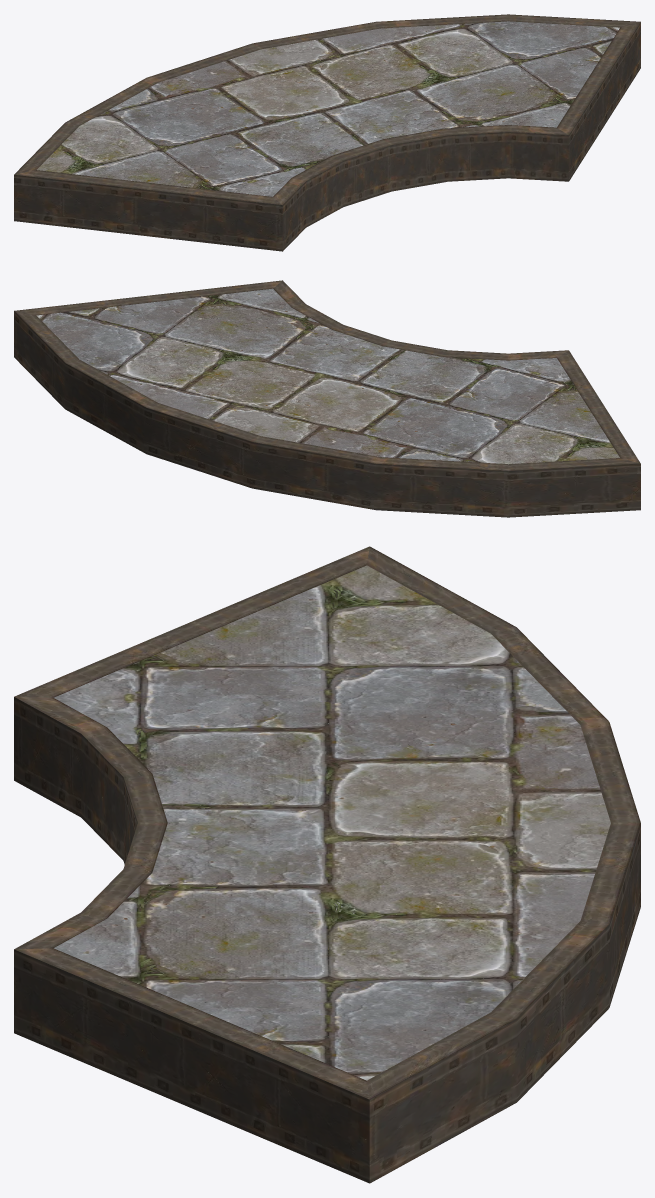
3 views of the same model, one above another, from view 1: azimuth 30°, elevation 25°; view 2: azimuth 150°, elevation 25°; view 3: azimuth 270°, elevation 25° (orthographic). The views are drawn at different scales.
Parts seen in each view (by area): view 1: SM_Dowdun_Spiral_Staircase_Tower_07_LOD0; view 2: SM_Dowdun_Spiral_Staircase_Tower_07_LOD0; view 3: SM_Dowdun_Spiral_Staircase_Tower_07_LOD0.
Part boxes in pixels (x1=…): SM_Dowdun_Spiral_Staircase_Tower_07_LOD0: x1=14, y1=14, x2=640, y2=251; SM_Dowdun_Spiral_Staircase_Tower_07_LOD0: x1=14, y1=280, x2=640, y2=517; SM_Dowdun_Spiral_Staircase_Tower_07_LOD0: x1=14, y1=546, x2=640, y2=1183.
Size of the model in its own units: 7.07 by 0.5 by 3.39.
Materials: 2 (2 with a texture image).
